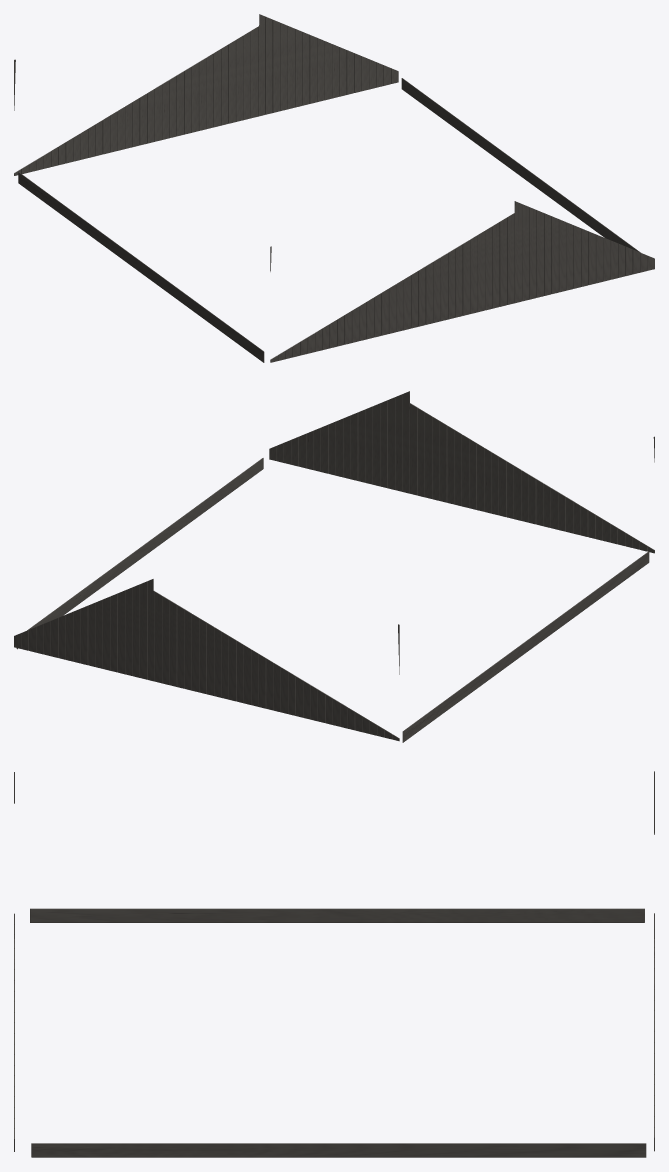
The model's file is DG_Fassade.gltf.
3 renders of one model, top to bottom at view 1: azimuth 30°, elevation 25°; view 2: azimuth 150°, elevation 25°; view 3: azimuth 270°, elevation 25°, orthographic. The views are drawn at different scales.
Visible parts, largest first — view 1: holzfassade.029, holzfassade.030, holzfassade.031, holzfassade.032; view 2: holzfassade.029, holzfassade.030, holzfassade.031, holzfassade.032; view 3: holzfassade.032, holzfassade.031.
Part boxes in pixels (<box>): holzfassade.029: <box>14,14,398,175</box>; holzfassade.030: <box>270,201,654,362</box>; holzfassade.031: <box>18,172,264,362</box>; holzfassade.032: <box>401,78,640,252</box>; holzfassade.029: <box>14,579,399,741</box>; holzfassade.030: <box>269,391,654,553</box>; holzfassade.031: <box>402,551,649,742</box>; holzfassade.032: <box>16,458,263,649</box>; holzfassade.032: <box>31,1143,646,1157</box>; holzfassade.031: <box>30,908,644,922</box>.
Bounding box in the file's own units: 10.42 × 3.12 × 11.99.
Materials: 2 (2 with a texture image).
